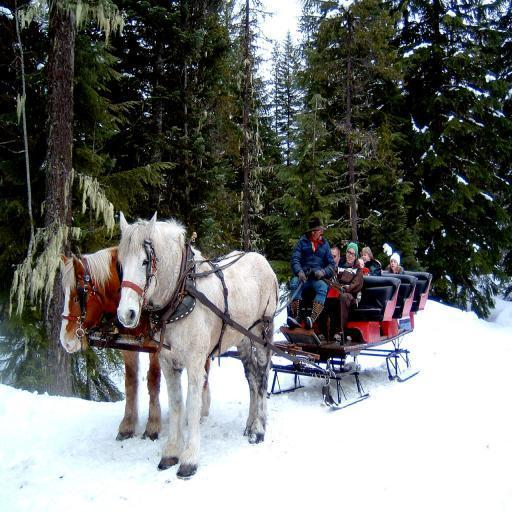horse: (114, 208, 278, 480), (58, 245, 210, 442)
